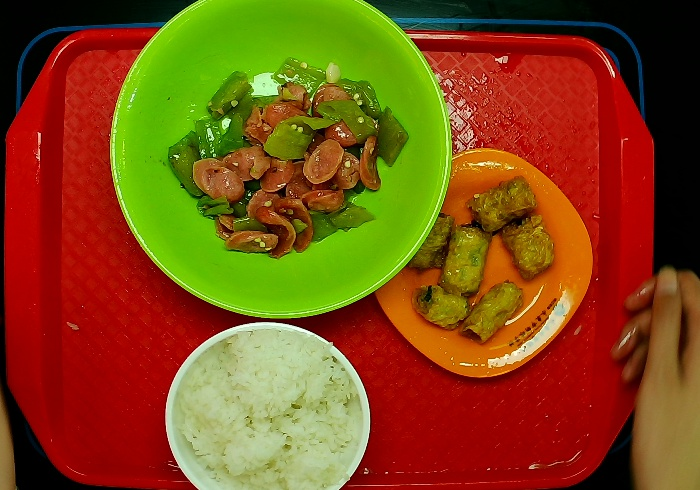YKMZ-Fan_Wan: (153, 304, 379, 490)
YKMZ-Ju_Se_Fang_Die: (365, 132, 606, 387)
YKMZ-Lv_Se_Tang_Wan: (103, 1, 459, 328)
